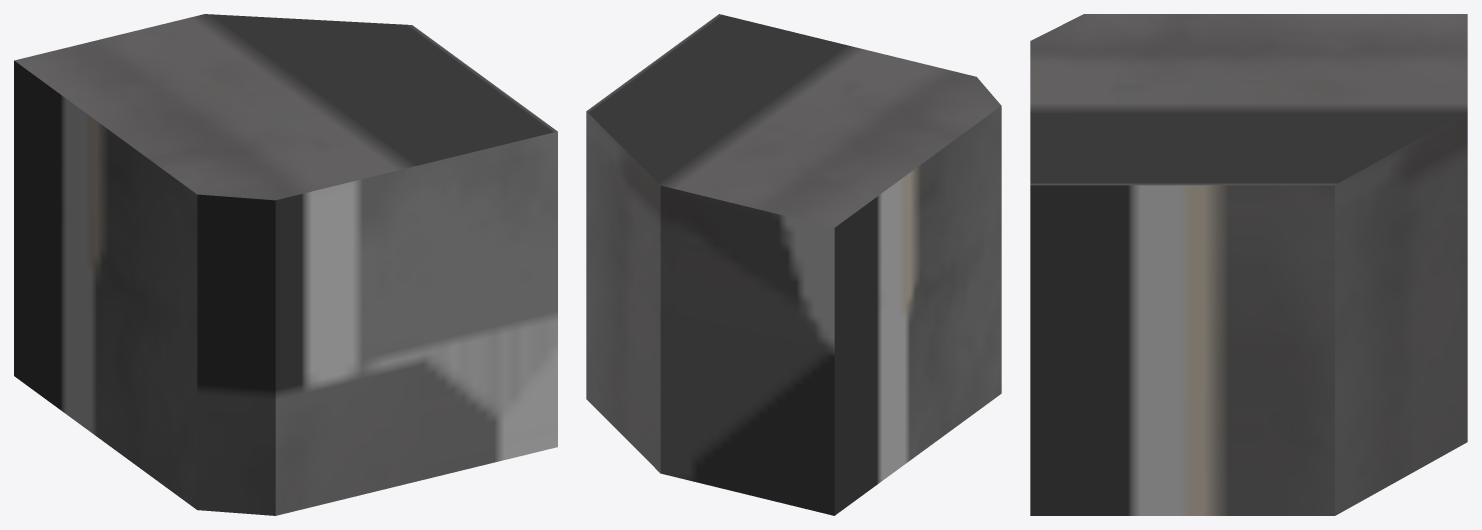
Rendered from M_3W_2F_building_parts9.fbx.
3 views of the same model, side by side, from view 1: azimuth 30°, elevation 25°; view 2: azimuth 150°, elevation 25°; view 3: azimuth 270°, elevation 25° (orthographic). The views are drawn at different scales.
Visible parts, largest first — view 1: Object057; view 2: Object057; view 3: Object057.
Boxes of the visible parts, x1,y1,x2,y2 form: Object057: (14,14,557,515); Object057: (586,14,1001,515); Object057: (1030,14,1467,515).
Size of the model in its own units: 186 by 167 by 200.
